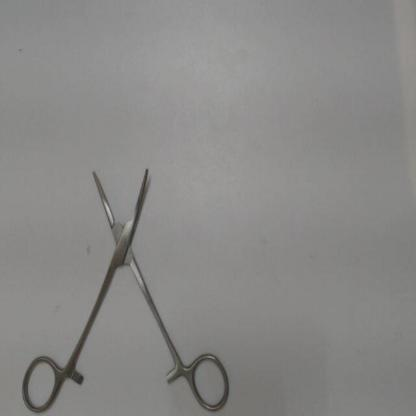Crile Artery Forceps: (15, 155, 231, 415)
